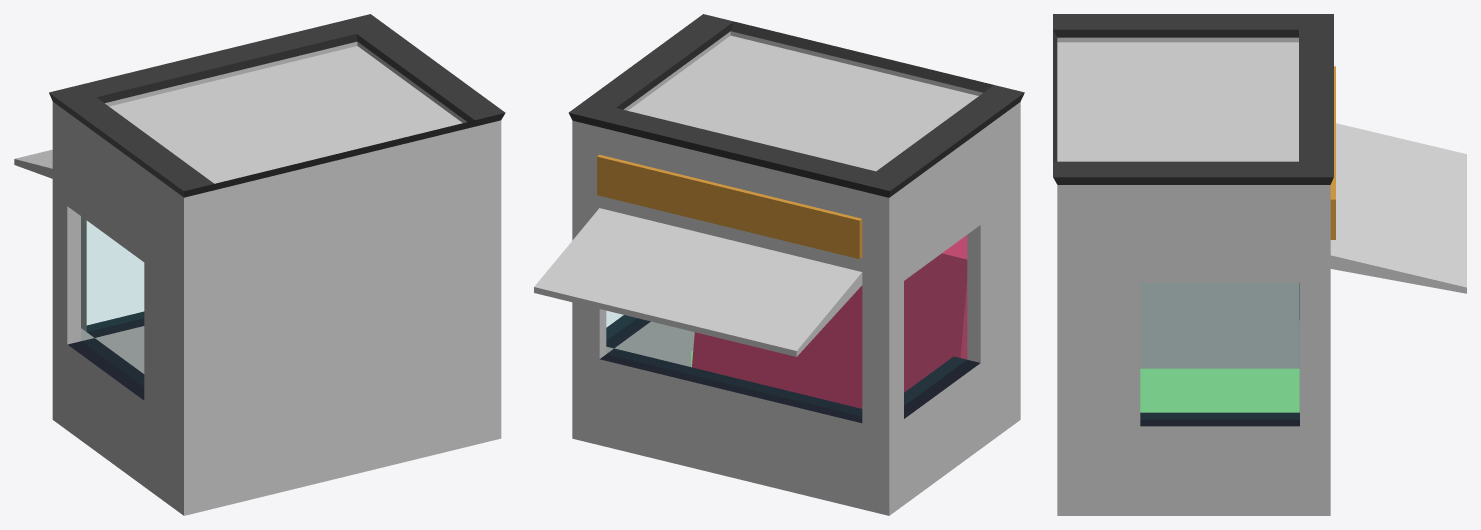
Rendered from commisary.gltf.
3 views of the same model, side by side, from view 1: azimuth 30°, elevation 25°; view 2: azimuth 150°, elevation 25°; view 3: azimuth 270°, elevation 25° (orthographic). The views are drawn at different scales.
Visible parts, largest first — view 1: Commisary; view 2: Commisary; view 3: Commisary.
Boxes of the visible parts, <box> form: Commisary: <box>14,14,505,515</box>; Commisary: <box>534,14,1024,515</box>; Commisary: <box>1053,14,1466,515</box>.
Bounding box in the file's own units: 9.35 × 9.08 × 10.01.
